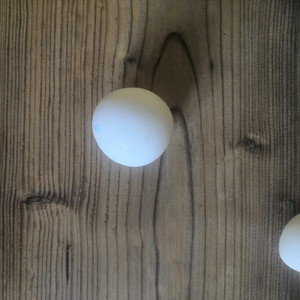white egg: (91, 86, 174, 168)
